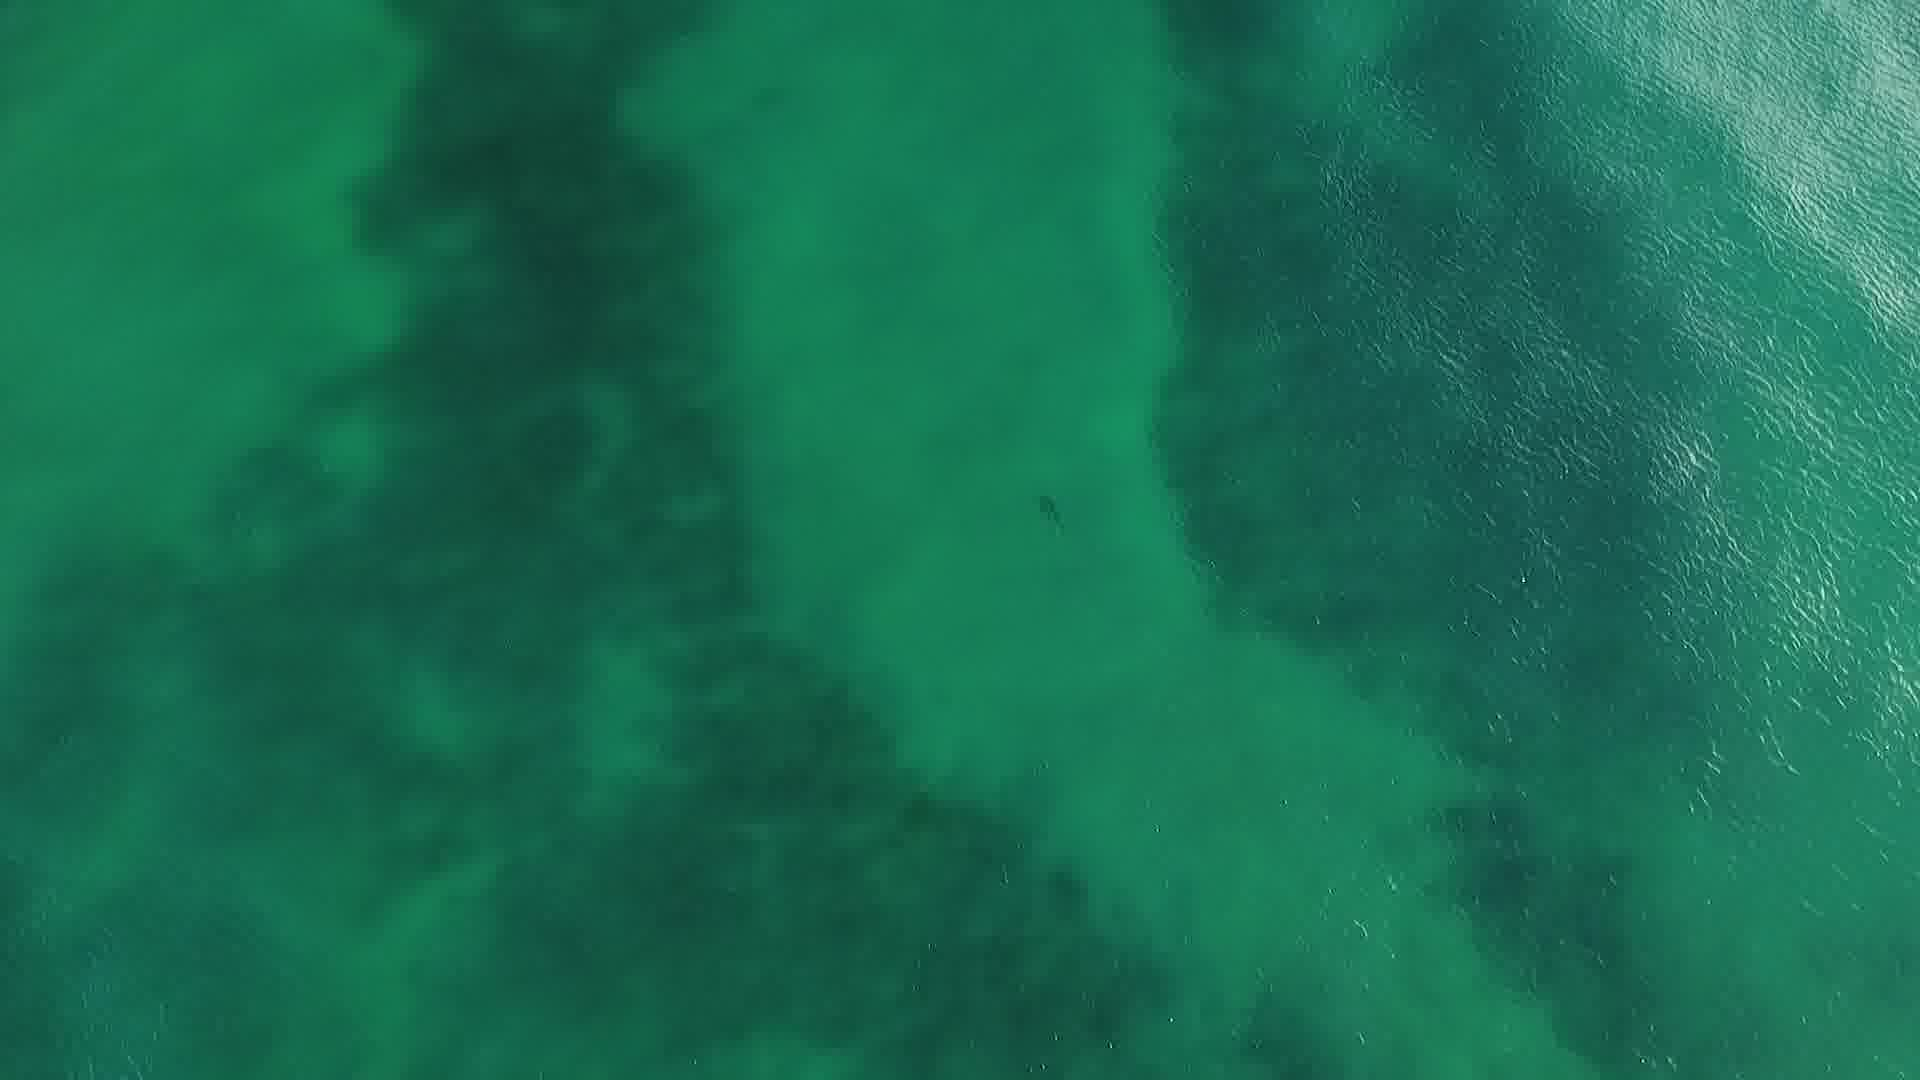shark: (1034, 491, 1069, 534)
